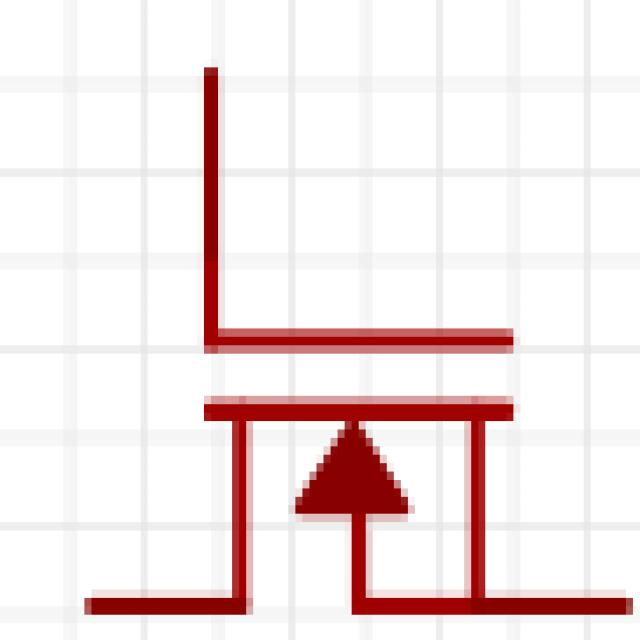nmos: (92, 55, 629, 632)
